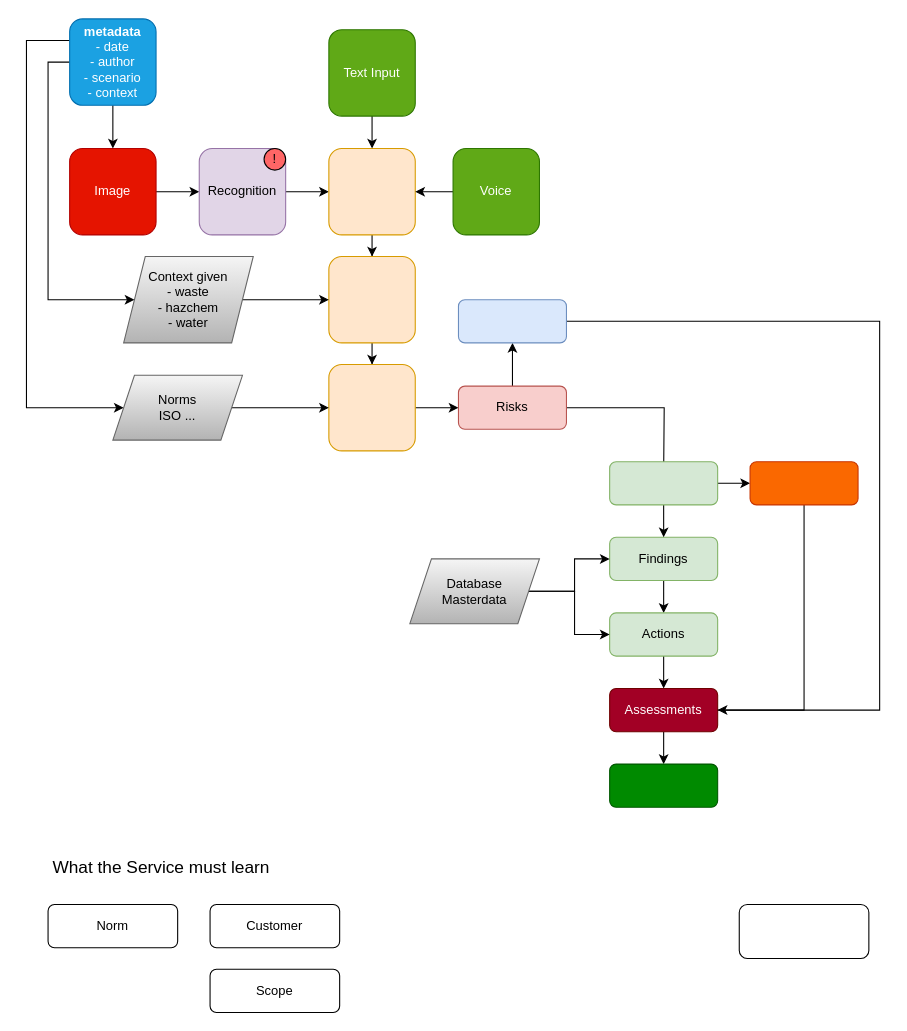
This 907x1031 diagram has some shape labels left out. The box of each missing label's shape, as (x1, y1, x2, y2) in pixels:
Described Risks: (609, 461, 718, 505)
ISO 14001: (328, 363, 415, 451)
Langchain prompt: (328, 147, 415, 235)
List of Conformities: (738, 903, 869, 959)
Potential Risks: (457, 299, 566, 343)
Report: (609, 763, 718, 807)
Risk Score: (749, 461, 858, 505)
Template: (328, 255, 415, 343)
